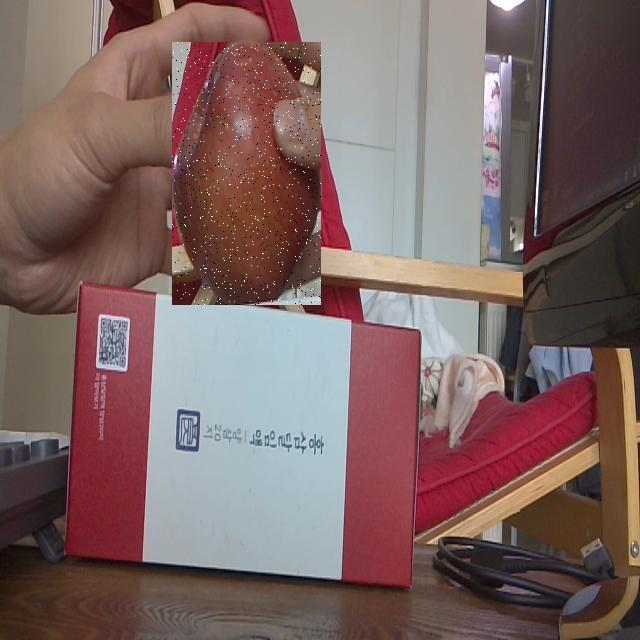apple: (172, 42, 321, 305)
